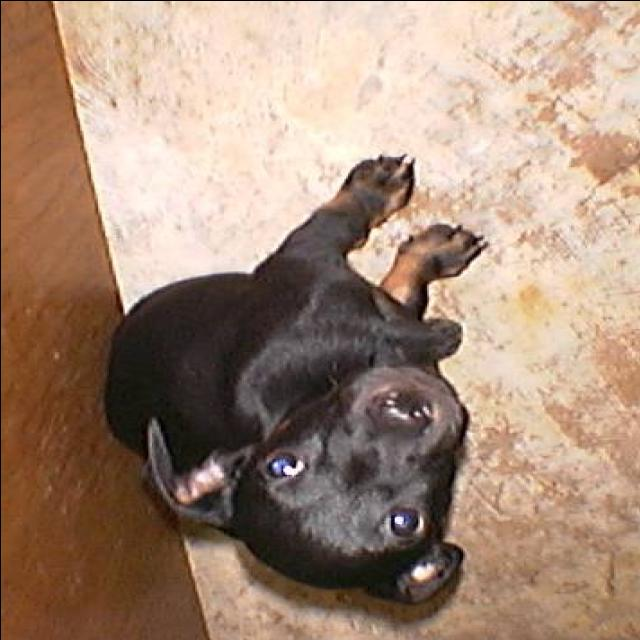dog: (72, 147, 502, 624)
